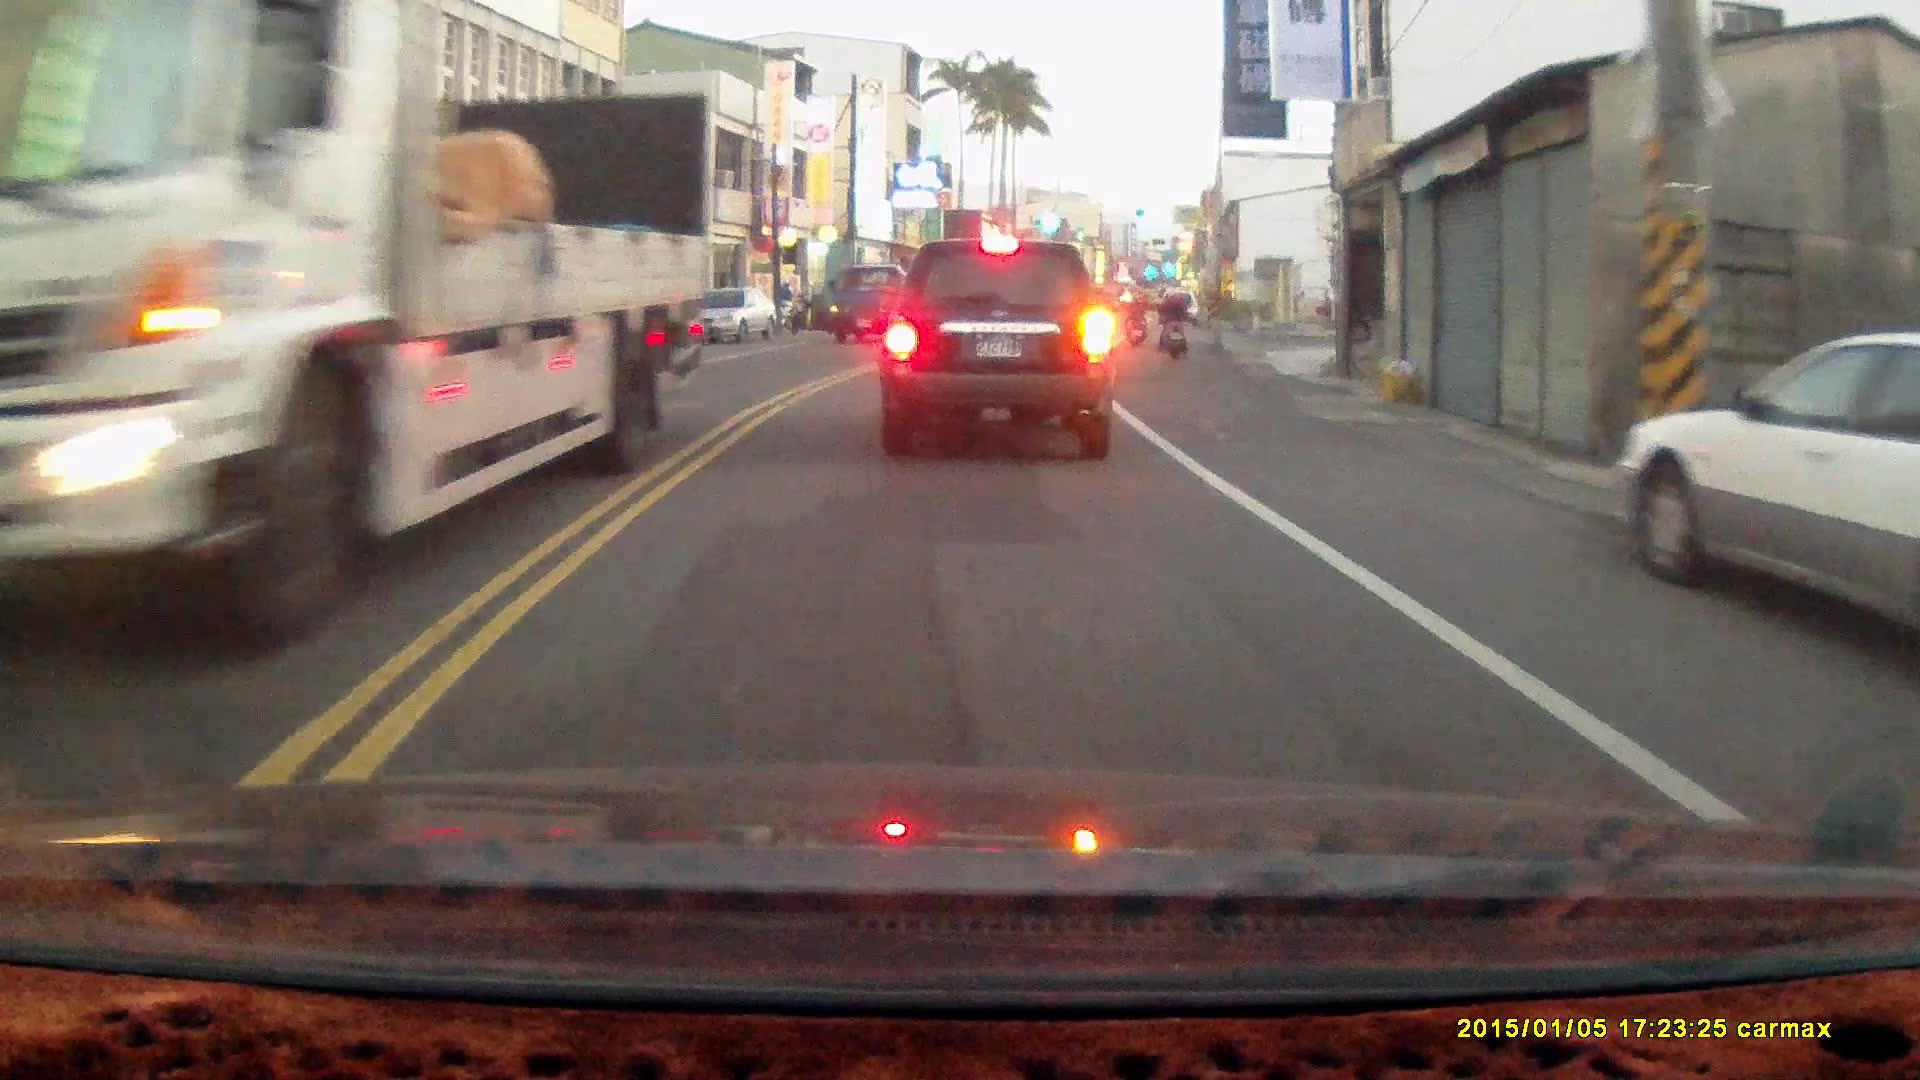rider: (1155, 282, 1186, 362), (1122, 289, 1147, 347)
vehicle: (2, 0, 707, 664), (1613, 329, 1920, 649), (877, 235, 1121, 461), (826, 260, 935, 345), (695, 286, 778, 344)
